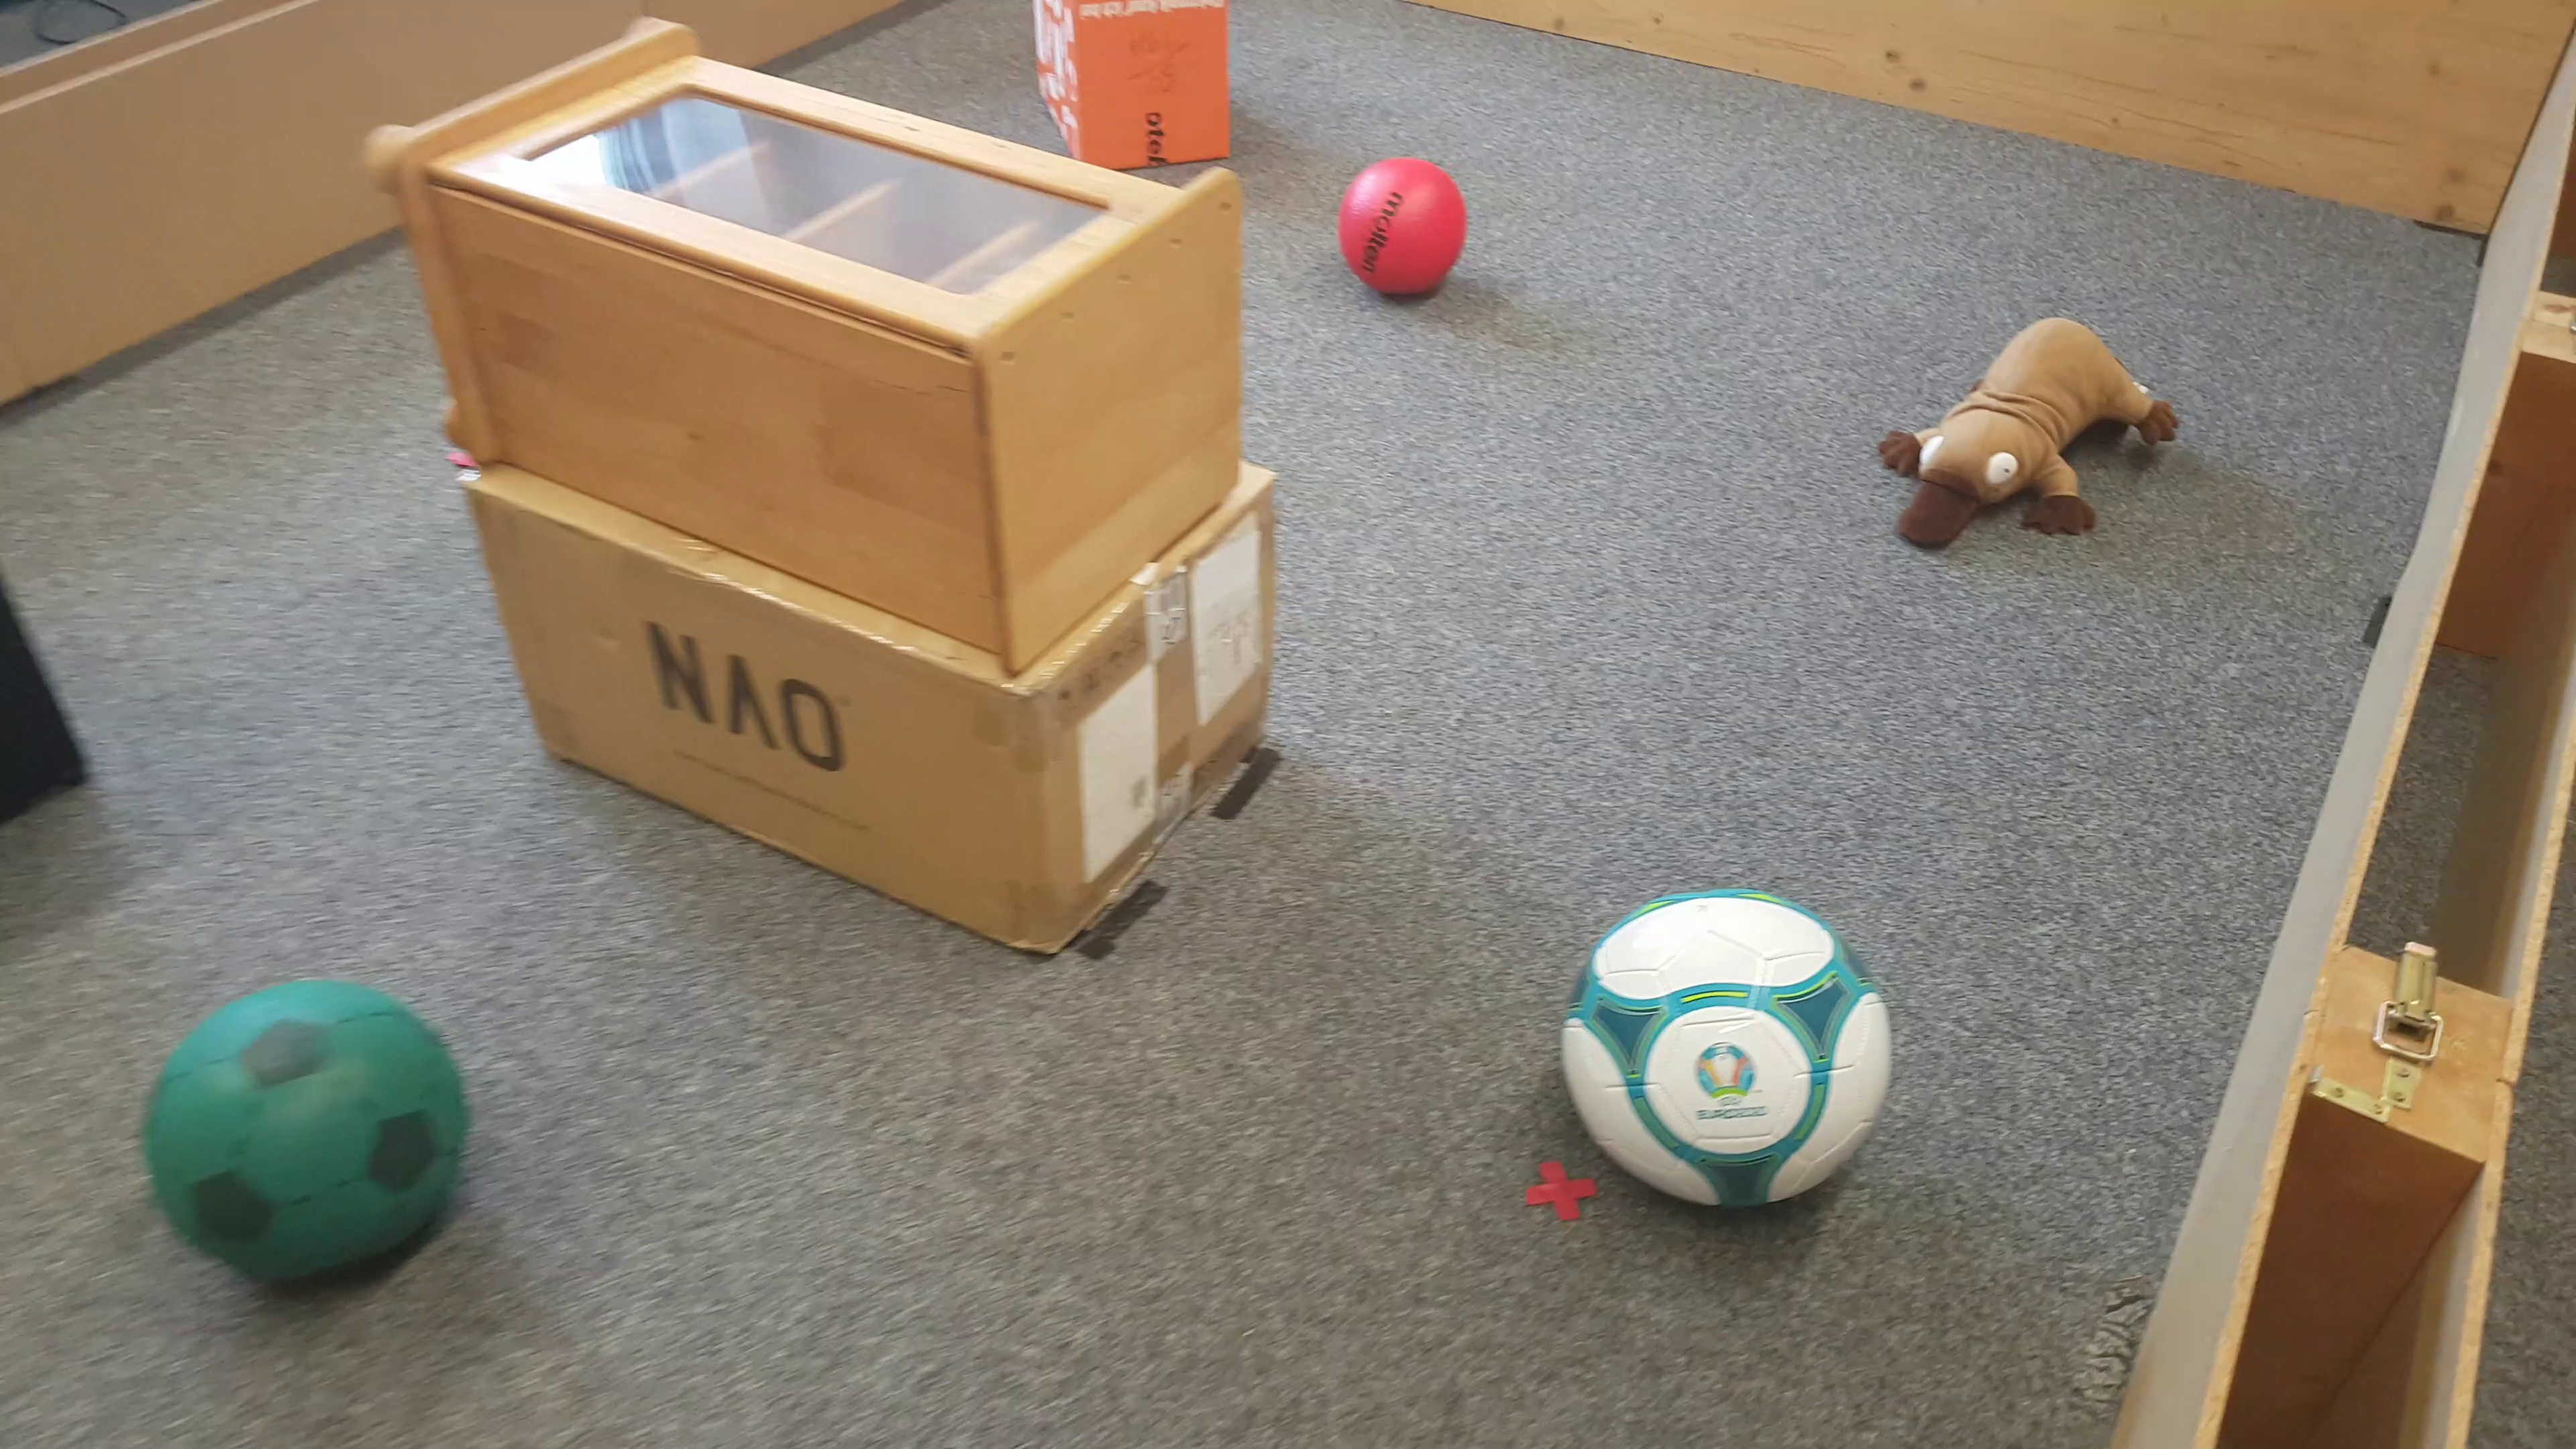grasp: (1884, 310, 2181, 563)
kick: (1562, 876, 1897, 1219), (143, 978, 474, 1299), (1343, 156, 1472, 299)
push: (1028, 4, 1238, 142)
